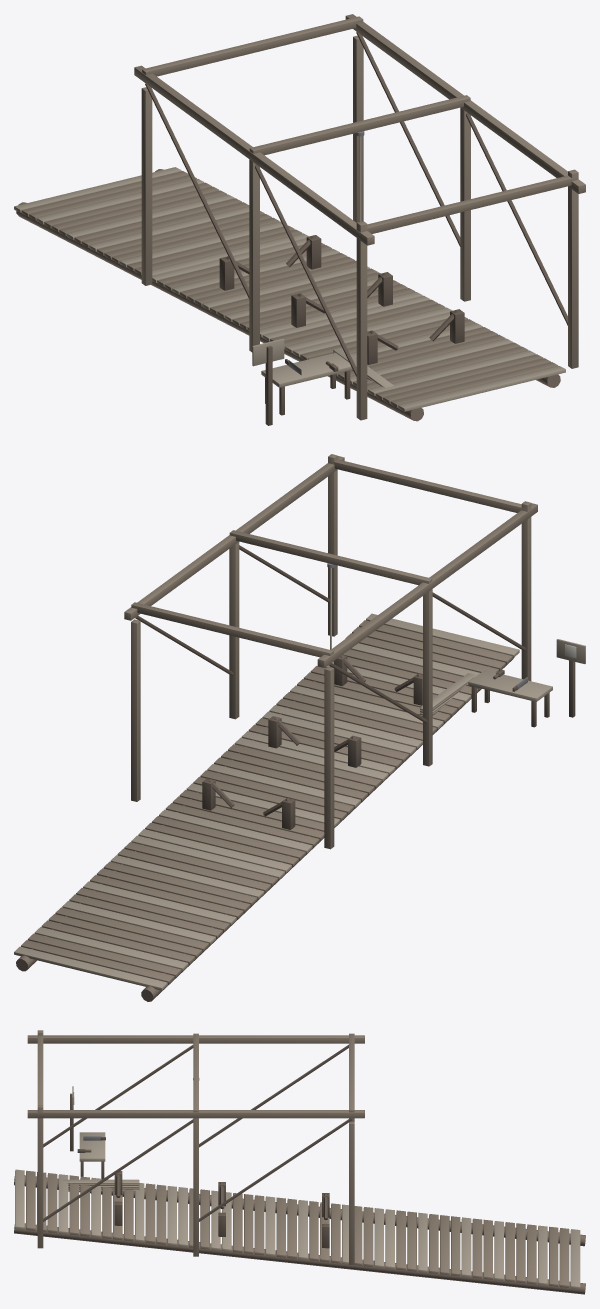
The model's file is slipway.gltf.
3 renders of one model, top to bottom at view 1: azimuth 30°, elevation 25°; view 2: azimuth 150°, elevation 25°; view 3: azimuth 270°, elevation 25°, orthographic. The views are drawn at different scales.
Visible parts, largest first — view 1: Body; view 2: Body; view 3: Body.
Part boxes in pixels (bbox=[...]): Body: bbox=[14, 14, 585, 425]; Body: bbox=[14, 454, 585, 1001]; Body: bbox=[14, 1030, 585, 1294].
Size of the model in its own units: 9.72 by 8.56 by 22.05.
